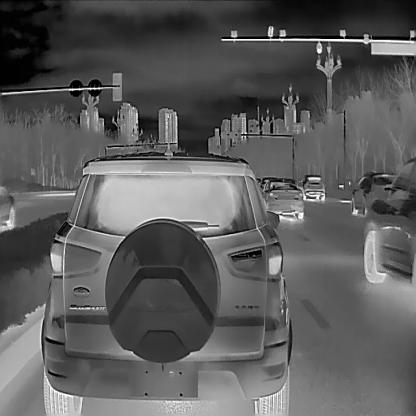car: (41, 151, 292, 414), (362, 157, 416, 283), (350, 172, 396, 216), (260, 177, 304, 219), (0, 187, 16, 231), (302, 174, 324, 201)
